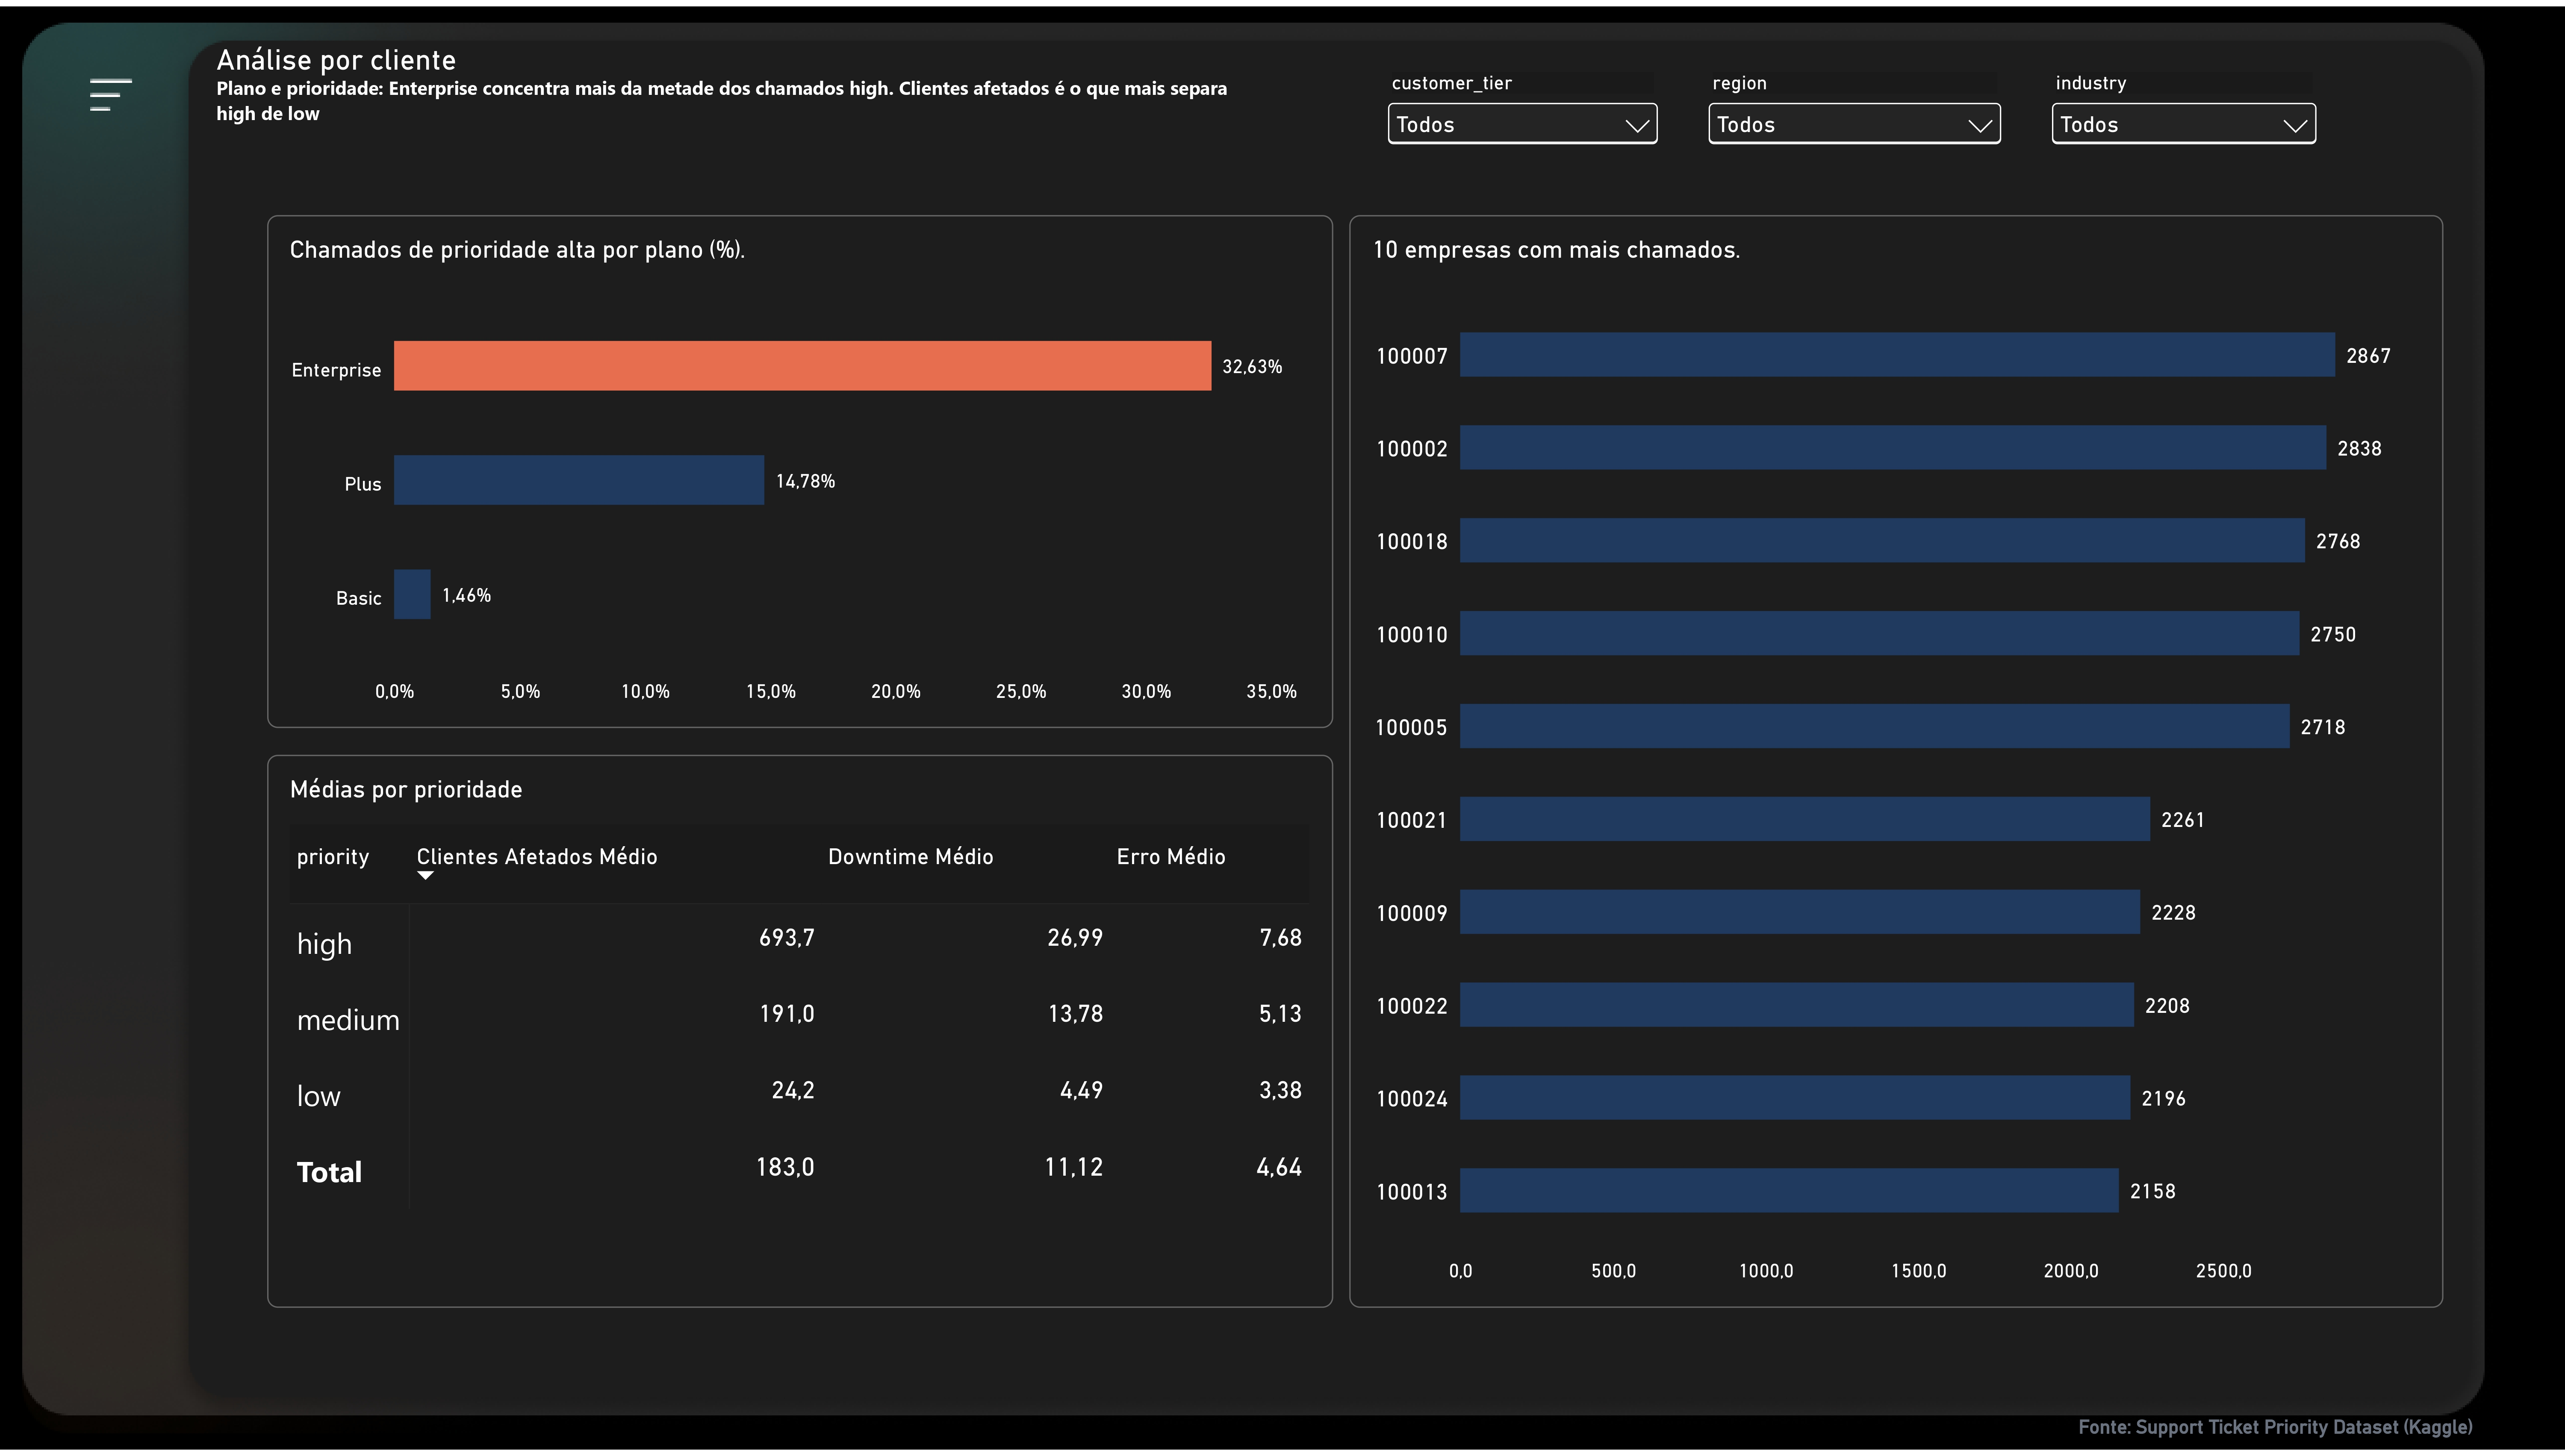

This screenshot's page, from the dashboard's own definition file:
{"tool":"powerbi","page":{"name":"Clientes e prioridade","canvas":[1920,1080],"ordinal":2},"visuals":[{"type":"slicer","fields":{"Values":["Support_tickets.industry"]},"box":[1530.5,48.5,207.8,98.6],"z":0},{"type":"slicer","fields":{"Values":["Support_tickets.region"]},"box":[1274.2,48.5,229,98.6],"z":1000},{"type":"slicer","fields":{"Values":["Support_tickets.customer_tier"]},"box":[1034.5,48.5,212.4,98.6],"z":2000},{"type":"clusteredBarChart","title":"Chamados de prioridade alta por plano (%).","fields":{"Category":["Support_tickets.customer_tier"],"Y":["Medidas.% High"]},"box":[200.2,156.2,797.9,383.8],"z":3000},{"type":"clusteredBarChart","title":"10 empresas com mais chamados.","fields":{"Category":["Support_tickets.company_id"],"Y":["Medidas.Total Chamados"]},"box":[1010.2,156.2,819.1,817.6],"z":4000},{"type":"textbox","box":[1556,1052.7,364,27.3],"z":5000},{"type":"textbox","box":[162.3,27.3,769,107.7],"z":6000},{"type":"pivotTable","title":"Médias por prioridade","fields":{"Rows":["Support_tickets.priority"],"Values":["Medidas.Clientes Afetados Médio","Medidas.Downtime Médio","Medidas.Erro Médio"]},"box":[200.2,559.7,797.9,414.1],"z":7000},{"type":"actionButton","box":[45.5,31.9,69.8,66.7],"z":7001}]}

Visuals, with their boxes in screenshot pixels (x1, y1, x2, y2), scaled from the page's 1920x1080 canvas onto the 2565x1456 screenshot:
slicer - Support_tickets.industry: (left=2045, top=65, right=2322, bottom=198)
slicer - Support_tickets.region: (left=1702, top=65, right=2008, bottom=198)
slicer - Support_tickets.customer_tier: (left=1382, top=65, right=1666, bottom=198)
"Chamados de prioridade alta por plano (%)." clusteredBarChart: (left=268, top=211, right=1333, bottom=728)
"10 empresas com mais chamados." clusteredBarChart: (left=1350, top=211, right=2444, bottom=1313)
textbox: (left=2079, top=1419, right=2565, bottom=1456)
textbox: (left=217, top=37, right=1244, bottom=182)
"Médias por prioridade" pivotTable: (left=268, top=755, right=1333, bottom=1313)
actionButton: (left=61, top=43, right=154, bottom=133)
